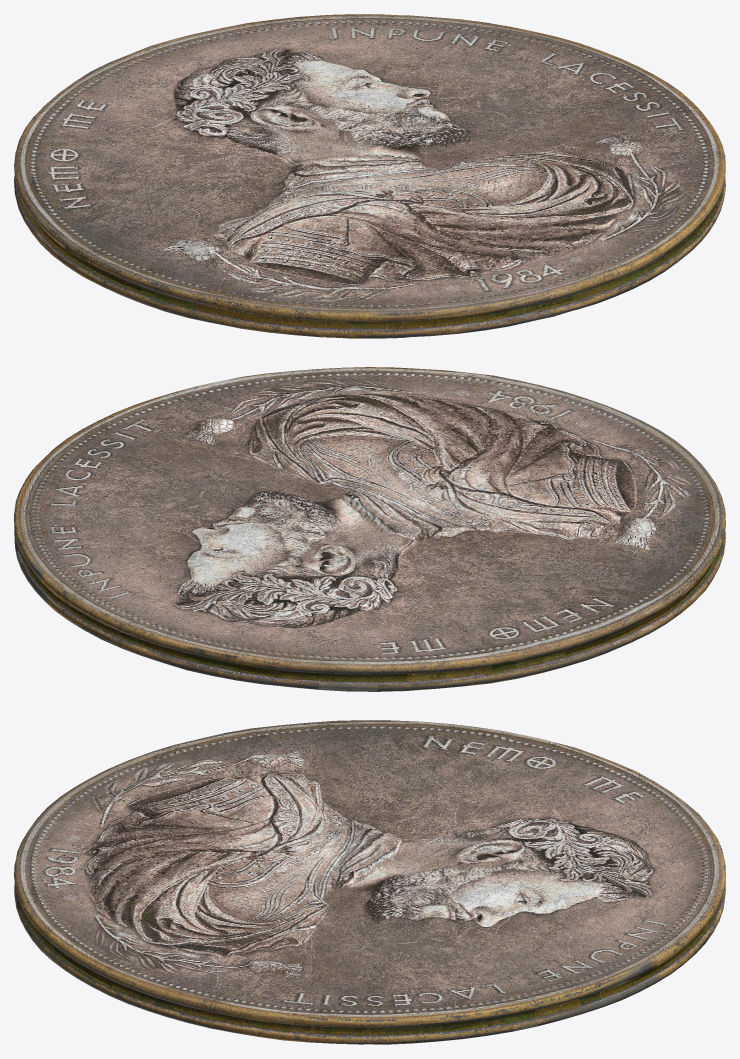
Rendered from Coin.gltf.
3 views of the same model, one above another, from view 1: azimuth 30°, elevation 25°; view 2: azimuth 150°, elevation 25°; view 3: azimuth 270°, elevation 25° (orthographic).
Visible parts, largest first — view 1: Coin; view 2: Coin; view 3: Coin.
Part boxes in pixels (x1,y1,x2,y2): Coin: (14,14,725,338); Coin: (14,367,725,691); Coin: (14,720,725,1044).
Bounding box in the file's own units: 2 × 0.1384 × 2.
Materials: 1 (1 with a texture image).
